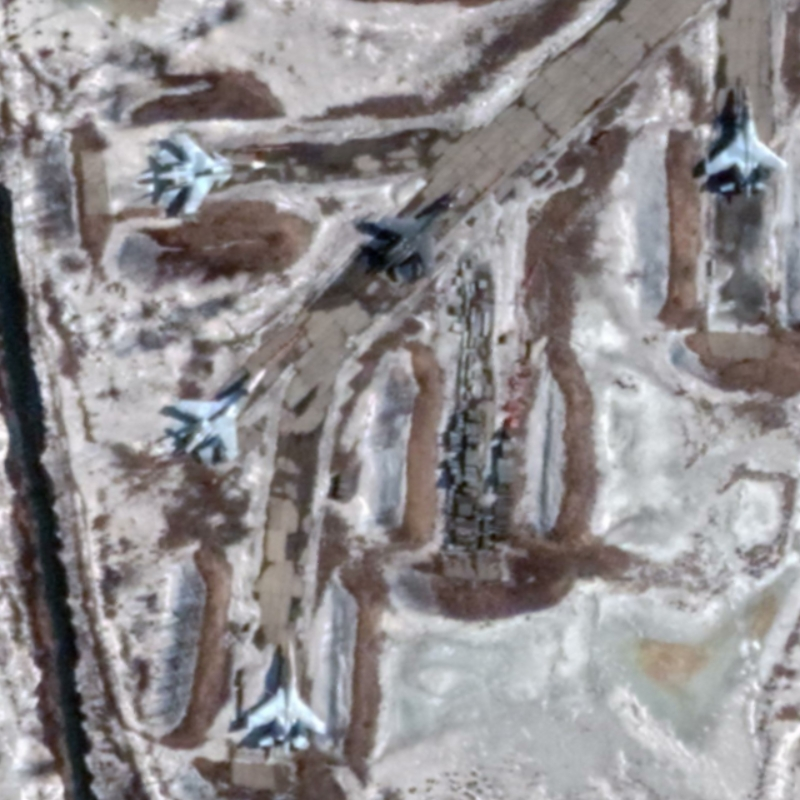A1: (358, 183, 469, 285), (700, 81, 791, 202), (242, 636, 328, 758), (169, 363, 269, 467)
A19: (153, 131, 290, 217)
